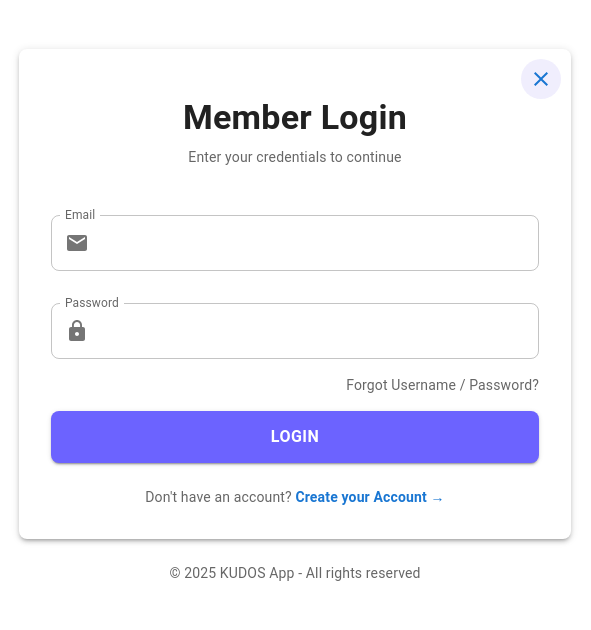
Test: LoginPage Integration Tests › Error Handling › should handle network errors gracefully
# Fill in login form
Type "test@example.com" into the field labelled "Email" at (318, 243), box [97,215,539,271]
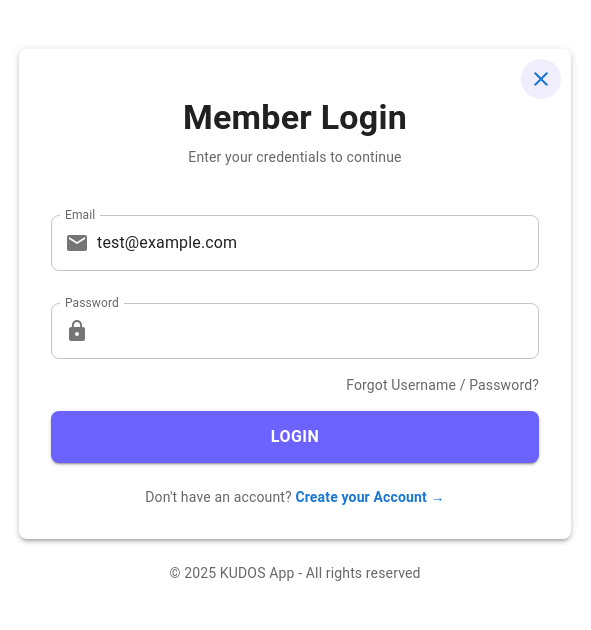
Type "password123" into the password field labelled "Password" at (318, 331), box [97,303,539,359]
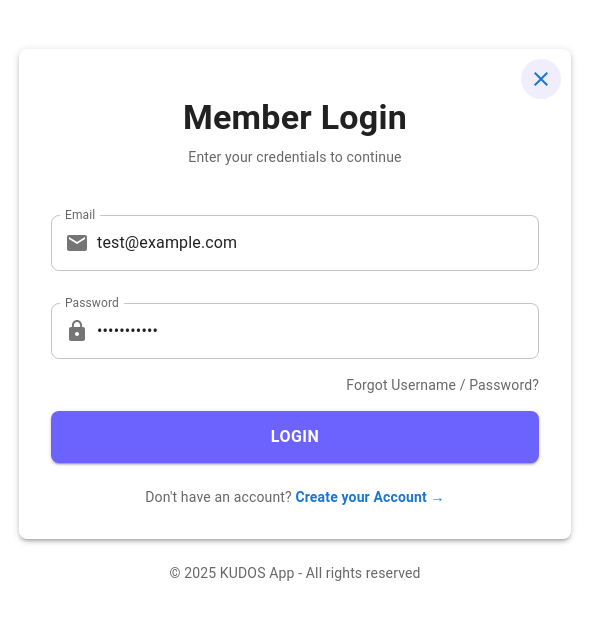
# Submit form
Click the button "Login" at (295, 437), box [51,411,539,463]
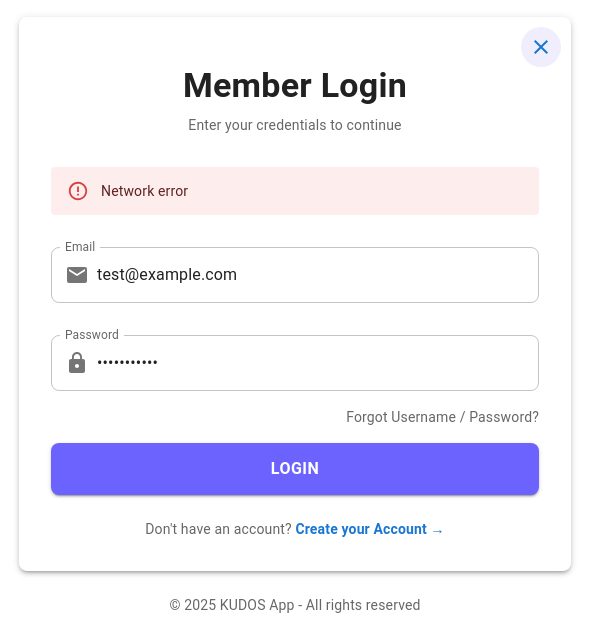
Expected: the message with test id "login-form-error" reads "Network error", [101,183,188,199]
